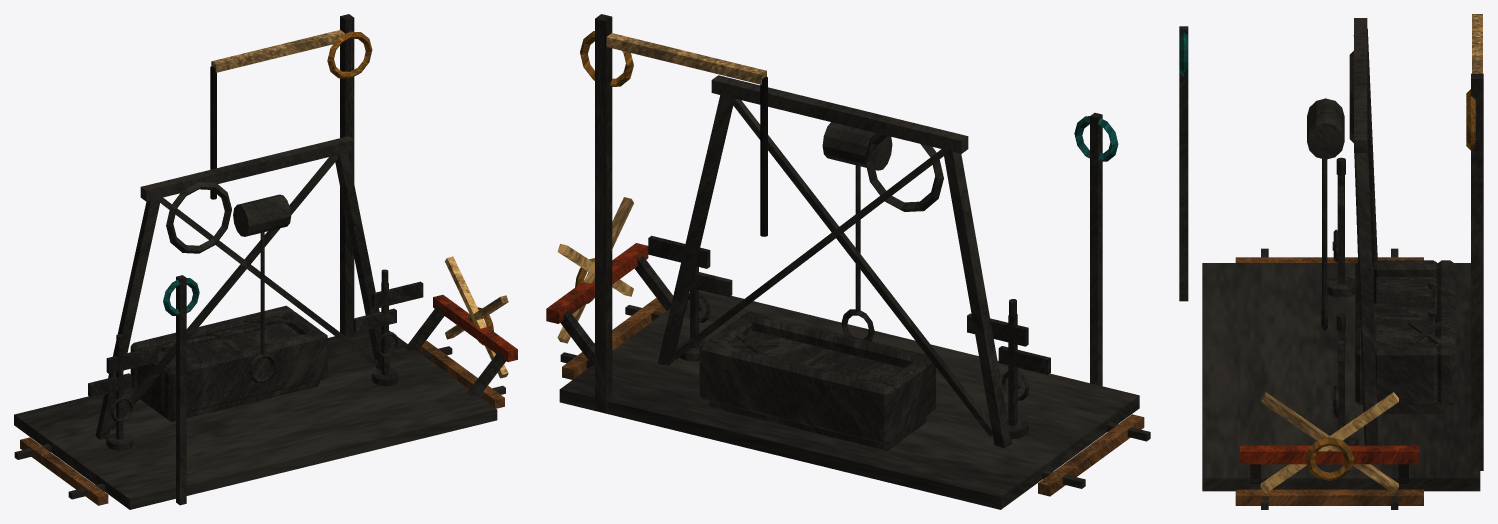
Rendered from east-railhead.glb.
3 renders of one model, left to right at view 1: azimuth 30°, elevation 25°; view 2: azimuth 150°, elevation 25°; view 3: azimuth 270°, elevation 25°, orthographic. The views are drawn at different scales.
Parts seen in each view (by area): view 1: east-railhead; view 2: east-railhead; view 3: east-railhead.
Boxes of the visible parts, x1,y1,x2,y2 form: east-railhead: (14,14,517,509); east-railhead: (546,14,1150,509); east-railhead: (1179,14,1483,509).
Bounding box in the file's own units: 10.6 × 7.55 × 5.26.
Materials: 1 (1 with a texture image).
